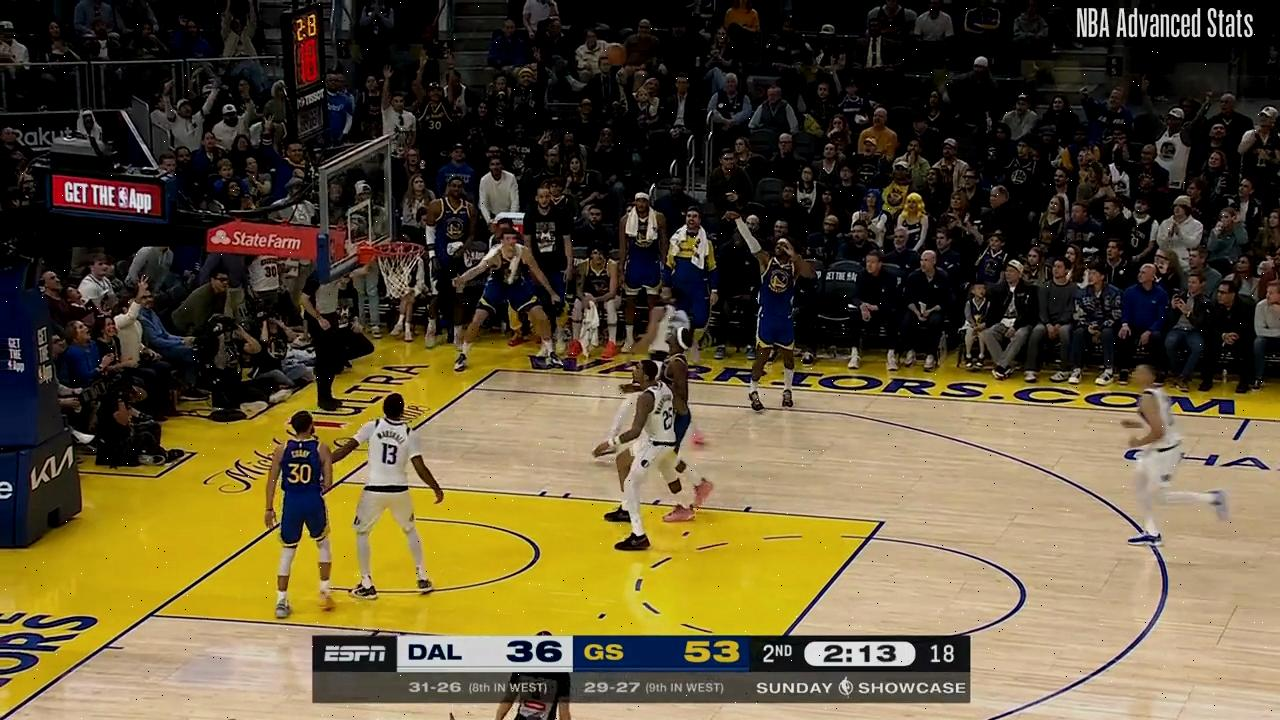basketball: (603, 39, 629, 72)
